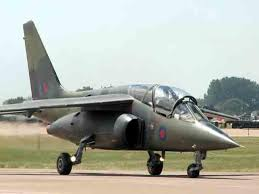fighter: (1, 18, 245, 178)
